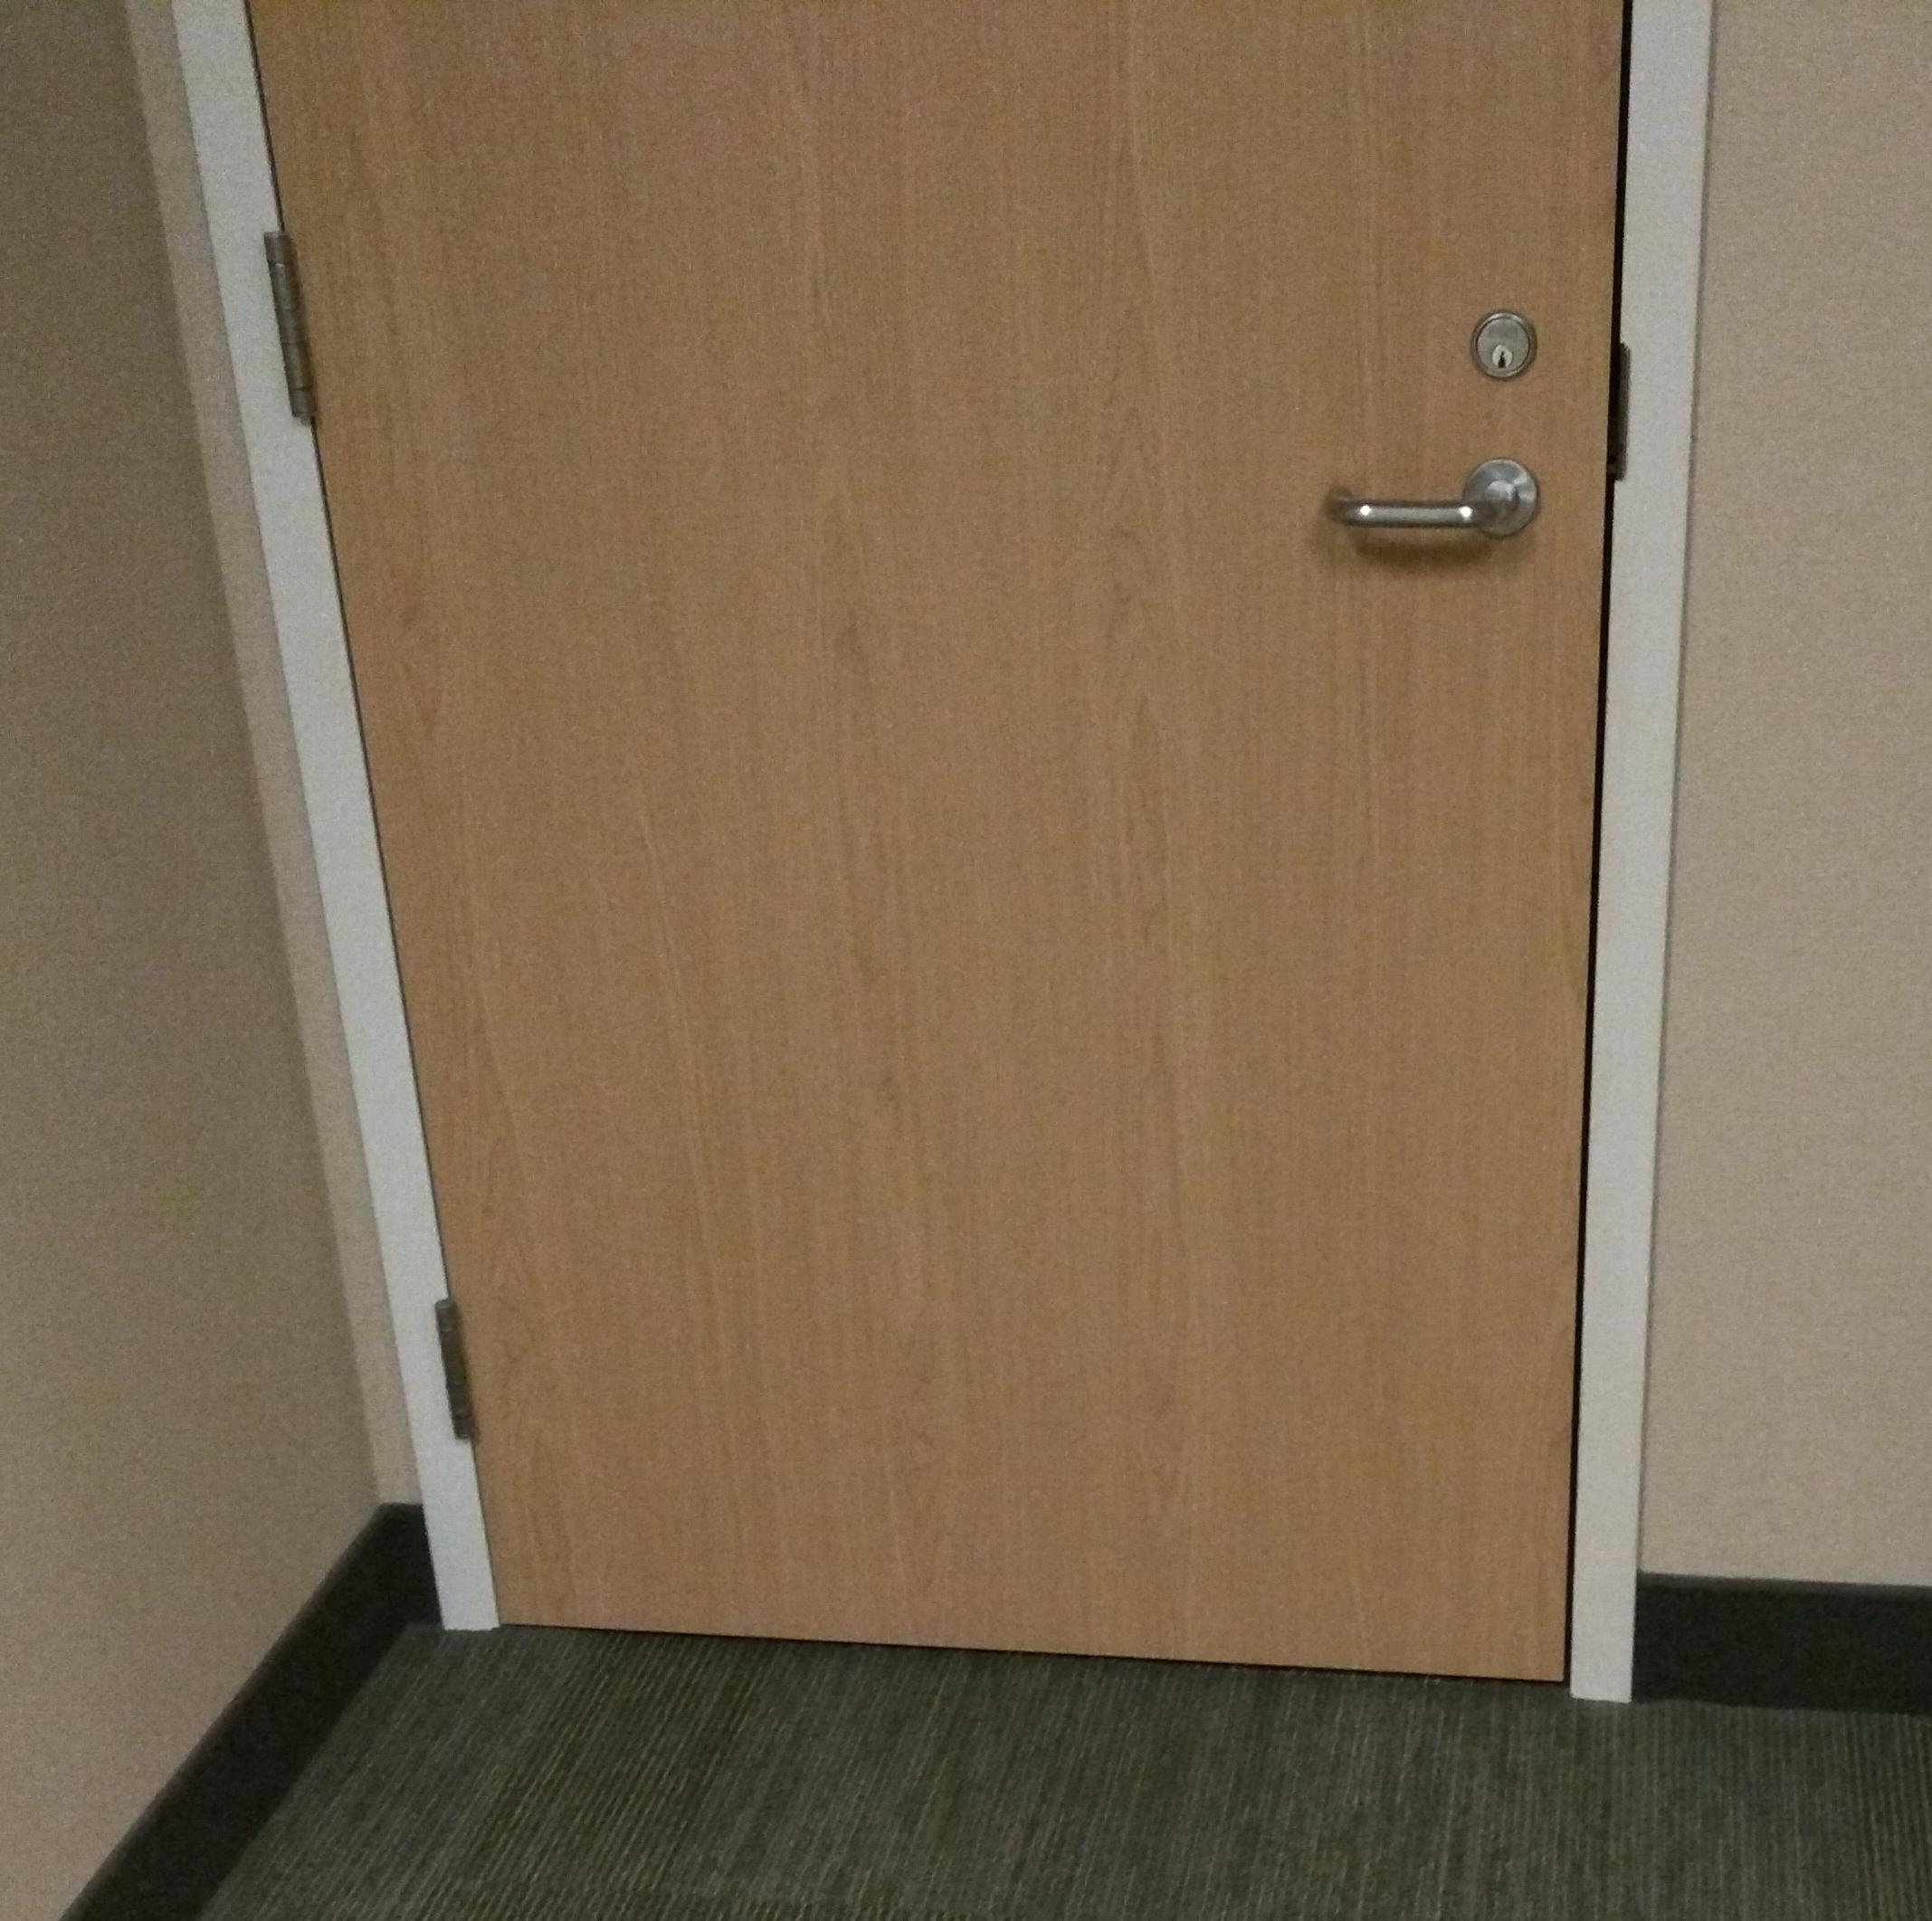door: (178, 5, 1714, 1698)
